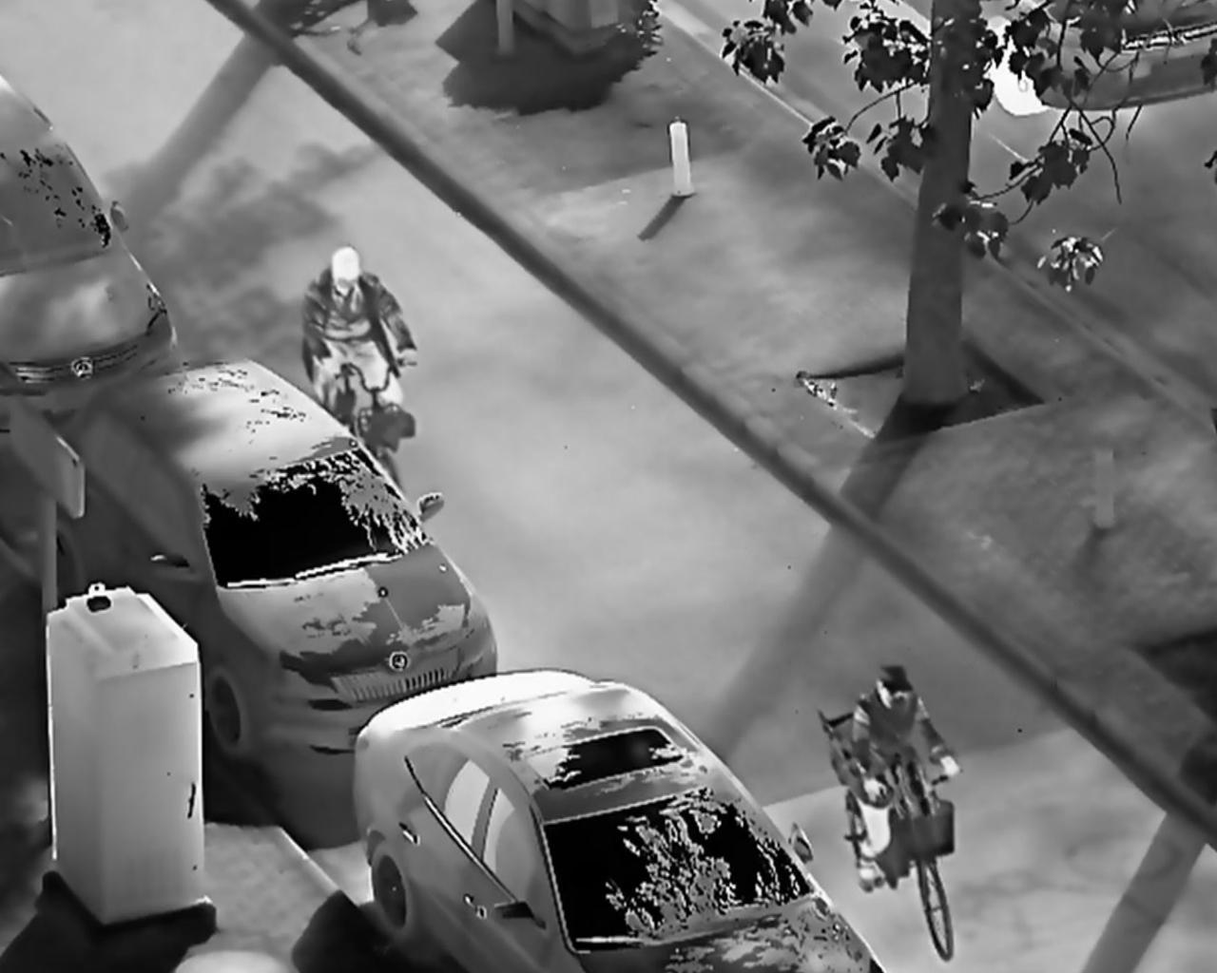person: (847, 662, 966, 894), (302, 245, 430, 422)
